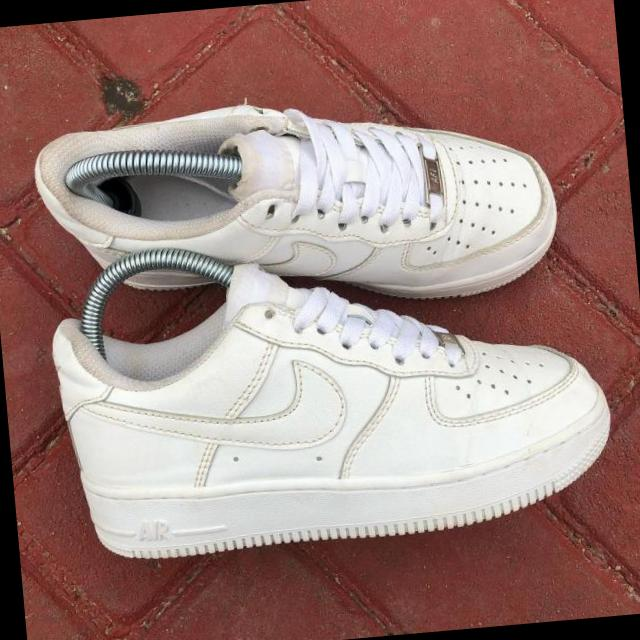nike_fake_airforce: (46, 232, 628, 566), (31, 75, 564, 333)
